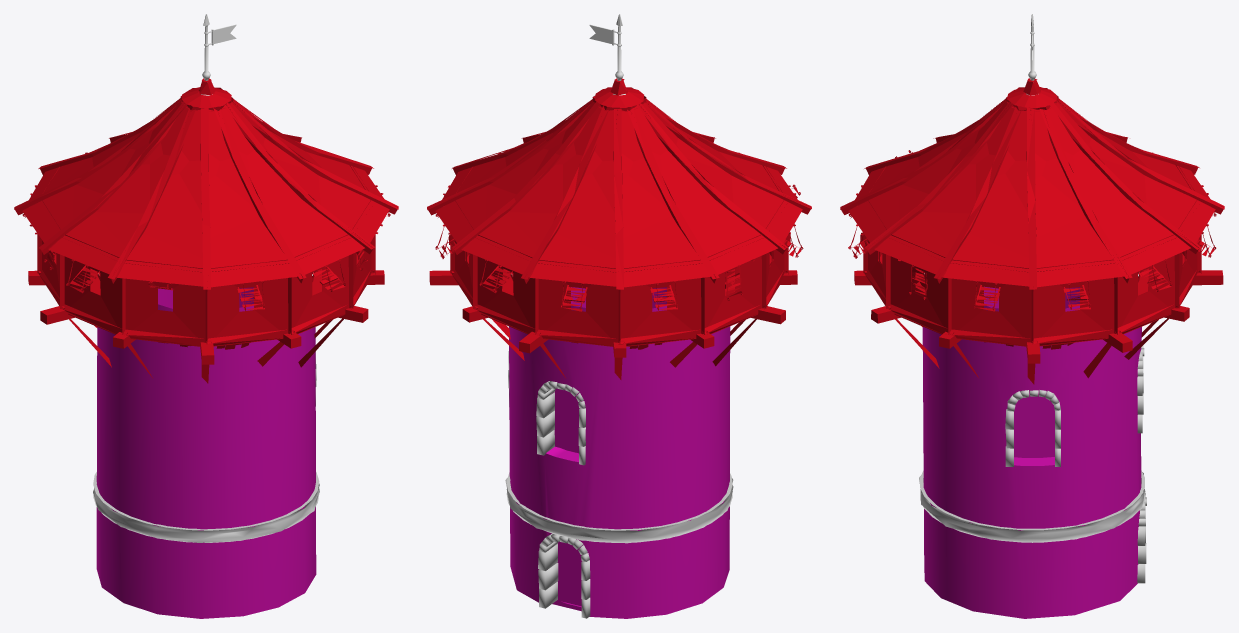
File: Tower_5 (2).fbx
3 views of the same model, side by side, from view 1: azimuth 30°, elevation 25°; view 2: azimuth 150°, elevation 25°; view 3: azimuth 270°, elevation 25° (orthographic).
Visible parts, largest first — view 1: Group_4.010, Tower_1.004, Group_4.011; view 2: Group_4.010, Tower_1.004, Group_4.011; view 3: Group_4.010, Tower_1.004.
Part boxes in pixels (left/top/right/bottom): Group_4.010: left=14, top=78, right=398, bottom=383; Tower_1.004: left=93, top=287, right=319, bottom=618; Group_4.011: left=201, top=14, right=236, bottom=95; Group_4.010: left=427, top=78, right=811, bottom=379; Tower_1.004: left=505, top=287, right=733, bottom=618; Group_4.011: left=589, top=14, right=625, bottom=95; Group_4.010: left=840, top=78, right=1224, bottom=384; Tower_1.004: left=919, top=286, right=1146, bottom=618.
Size of the model in its own units: 1135 by 1829 by 1133.
